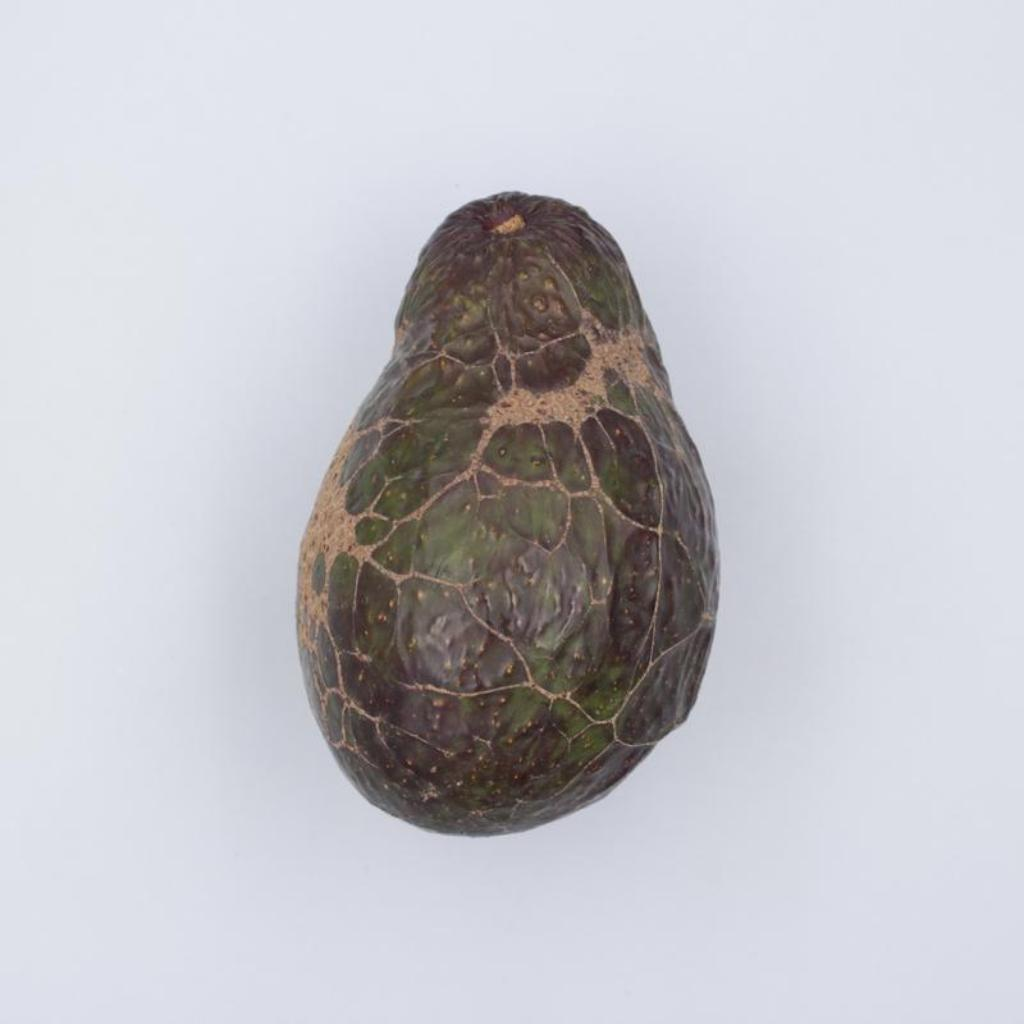rona: (298, 193, 718, 835)
